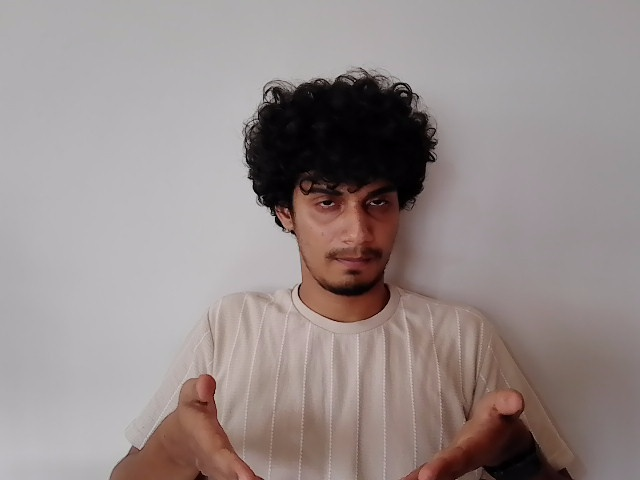here: (175, 372, 533, 480)
